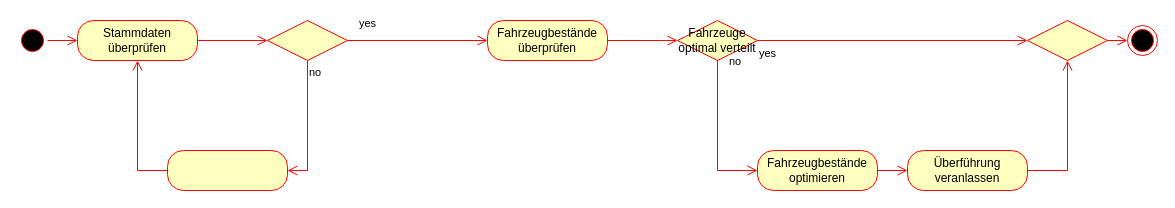
The diagram is 1175 pixels wide and 208 high, and some of its shapes have lost their labels. Each missing label, with the box of its shape:
Daten korrekt?: (266, 20, 348, 60)
Stammdaten aktualisieren: (166, 150, 288, 190)
